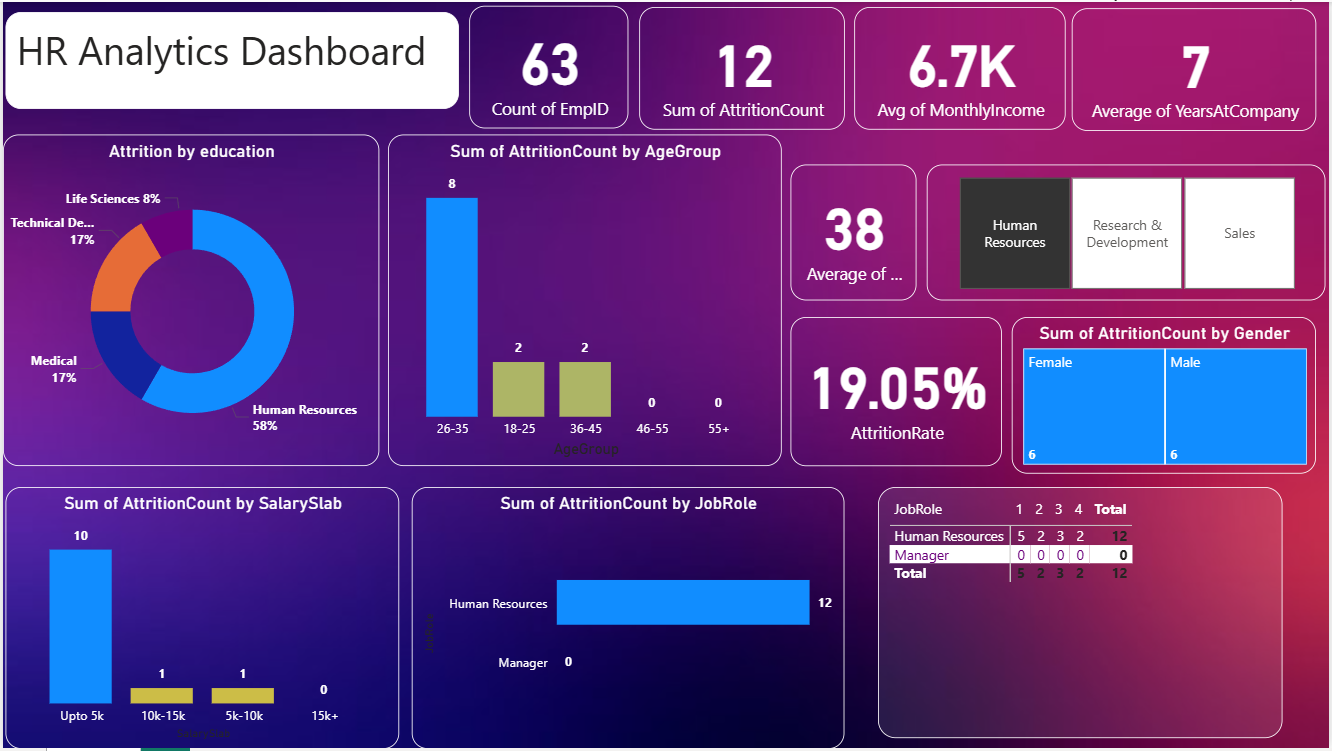

This screenshot's page, from the dashboard's own definition file:
{"tool":"powerbi","page":{"name":"Page 1","canvas":[1280,720],"ordinal":0},"visuals":[{"type":"card","fields":{"Values":["CountNonNull(HR_Analytics.EmpID)"]},"box":[450,3.8,153.8,118.8],"z":0},{"type":"card","fields":{"Values":["Sum(HR_Analytics.AttritionCount)"]},"box":[613.8,5,198.8,118.8],"z":1000},{"type":"card","fields":{"Values":["HR_Analytics.AttritionRate"]},"box":[760,303.8,203.8,143.8],"z":2000},{"type":"card","fields":{"Values":["Avg(HR_Analytics.Age)"]},"box":[760,156.2,121.2,131.2],"z":3000},{"type":"card","fields":{"Values":["Avg(HR_Analytics.MonthlyIncome)"]},"box":[821.2,5,203.8,118.8],"z":4000},{"type":"card","fields":{"Values":["Avg(HR_Analytics.YearsAtCompany)"]},"box":[1031.2,6.2,236.2,118.8],"z":5000},{"type":"donutChart","title":"Attrition by education","fields":{"Y":["Sum(HR_Analytics.AttritionCount)"],"Category":["HR_Analytics.EducationField"]},"box":[0,127.9,363.1,319.7],"z":6000},{"type":"columnChart","fields":{"Y":["Sum(HR_Analytics.AttritionCount)"],"Category":["HR_Analytics.AgeGroup"]},"box":[371.2,127.5,380,320],"z":6001},{"type":"pivotTable","fields":{"Rows":["HR_Analytics.JobRole"],"Columns":["HR_Analytics.JobSatisfaction"],"Values":["Sum(HR_Analytics.AttritionCount)"]},"box":[845,467.5,390,242.5],"z":6002},{"type":"columnChart","fields":{"Y":["Sum(HR_Analytics.AttritionCount)"],"Category":["HR_Analytics.SalarySlab"]},"box":[2.5,467.5,380,252.5],"z":6003},{"type":"barChart","fields":{"Category":["HR_Analytics.JobRole"],"Y":["Sum(HR_Analytics.AttritionCount)"]},"box":[395,467.5,417.5,252.5],"z":6004},{"type":"treemap","fields":{"Group":["HR_Analytics.Gender"],"Values":["Sum(HR_Analytics.AttritionCount)"]},"box":[973.8,303.8,293.8,151.2],"z":6005},{"type":"slicer","fields":{"Values":["HR_Analytics.Department"]},"box":[891.2,156.2,385,131.2],"z":6006},{"type":"textbox","box":[2.5,10,437.5,93.8],"z":6007}]}

Visuals, with their boxes in screenshot pixels (x1, y1, x2, y2), scaled from the page's 1280x720 canvas onto the 1332x751 screenshot:
card - CountNonNull(HR_Analytics.EmpID): bbox(468, 4, 628, 128)
card - Sum(HR_Analytics.AttritionCount): bbox(639, 5, 846, 129)
card - HR_Analytics.AttritionRate: bbox(791, 317, 1003, 467)
card - Avg(HR_Analytics.Age): bbox(791, 163, 917, 300)
card - Avg(HR_Analytics.MonthlyIncome): bbox(855, 5, 1067, 129)
card - Avg(HR_Analytics.YearsAtCompany): bbox(1073, 6, 1319, 130)
"Attrition by education" donutChart: bbox(0, 133, 378, 467)
columnChart - Sum(HR_Analytics.AttritionCount) x HR_Analytics.AgeGroup: bbox(386, 133, 782, 467)
pivotTable - HR_Analytics.JobRole x HR_Analytics.JobSatisfaction: bbox(879, 488, 1285, 741)
columnChart - Sum(HR_Analytics.AttritionCount) x HR_Analytics.SalarySlab: bbox(3, 488, 398, 750)
barChart - HR_Analytics.JobRole x Sum(HR_Analytics.AttritionCount): bbox(411, 488, 846, 750)
treemap - HR_Analytics.Gender x Sum(HR_Analytics.AttritionCount): bbox(1013, 317, 1319, 475)
slicer - HR_Analytics.Department: bbox(927, 163, 1328, 300)
textbox: bbox(3, 10, 458, 108)
